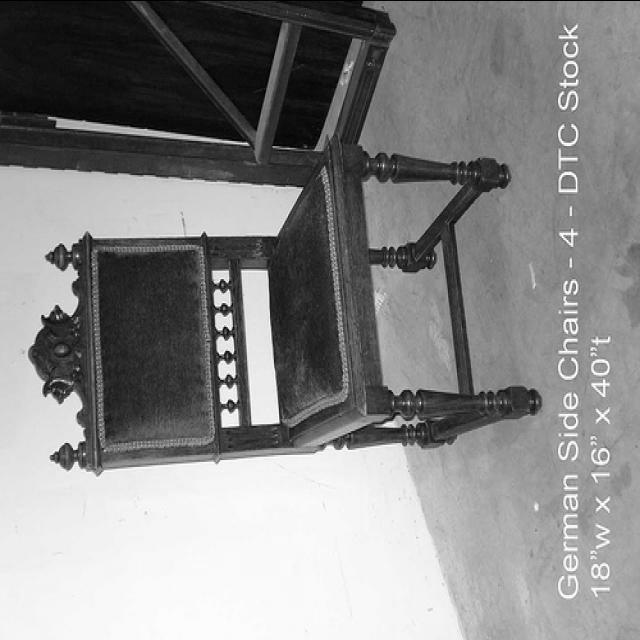chair: (26, 136, 544, 478)
